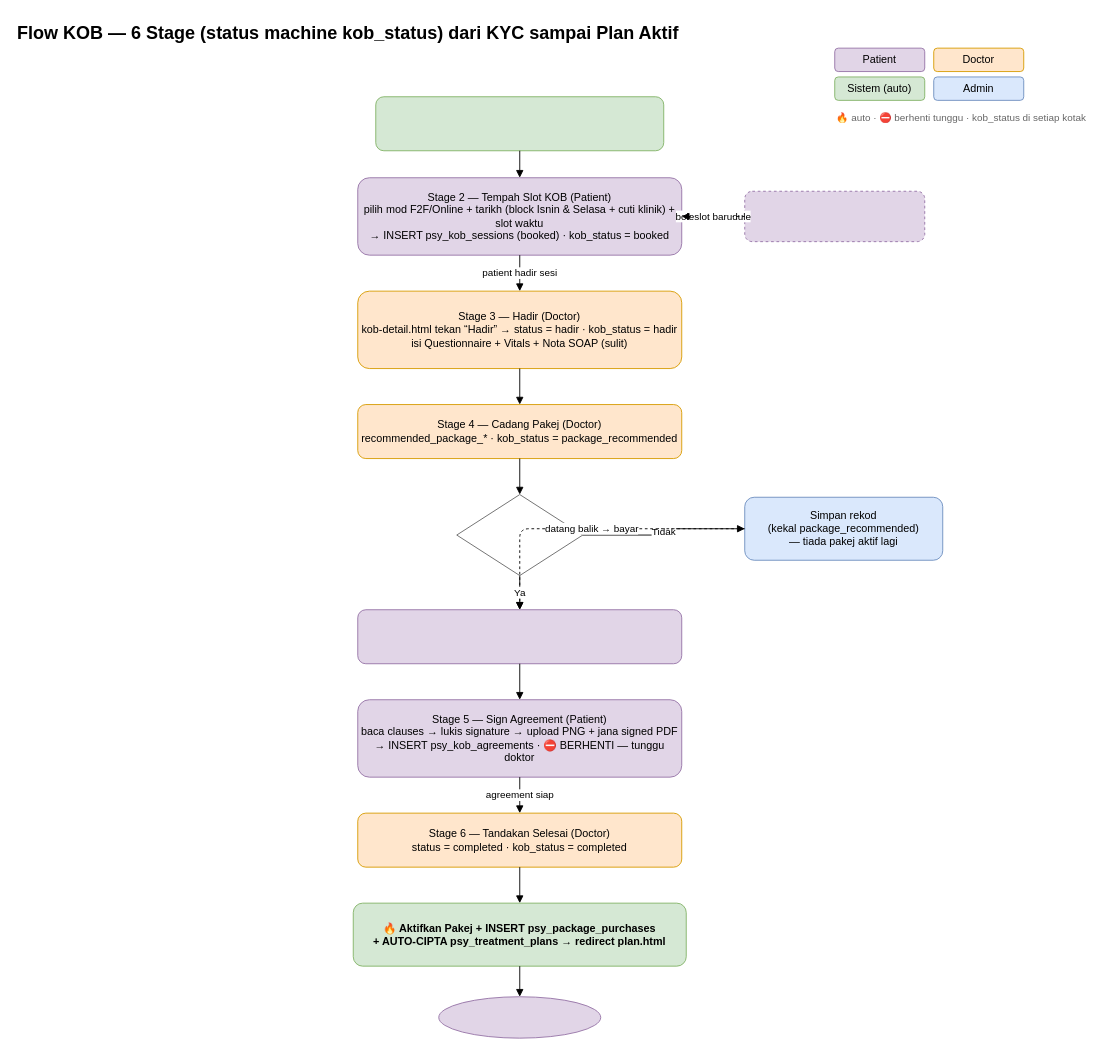
Image size: 1120x1054. Some labels were removed from this diagram. Here are the shapes that lost their labels. From the top down, the box of each, then its label:
(375, 96, 664, 151): Stage 1 — KYC ✓ kob_status: paid → kyc_done (lihat Flow_KYC)
(744, 190, 925, 242): Reschedule slot (sebelum hadir)
(456, 494, 583, 576): Patient beli pakej?
(357, 609, 682, 664): Patient: Bayar Pakej → package_payment_status = paid · kob_status = package_paid
(438, 996, 601, 1038): → Flow Rawatan
